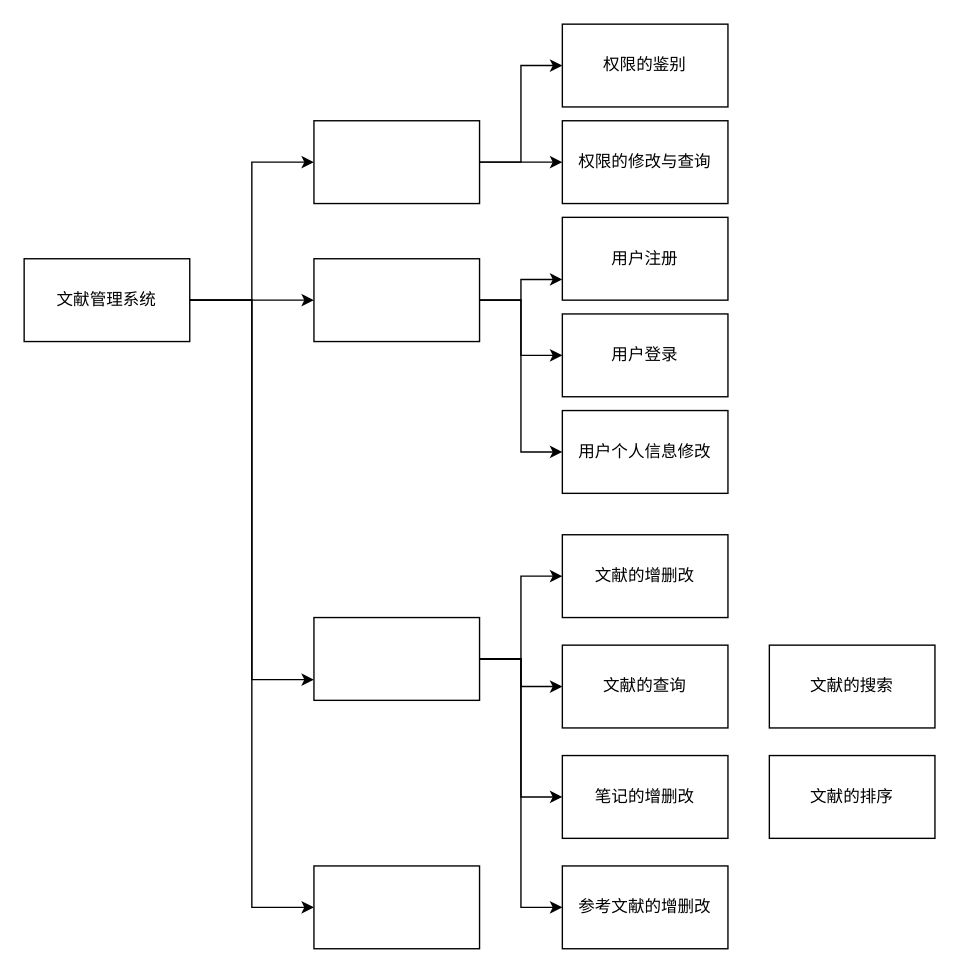
The diagram is 959 pixels wide and 973 high, and some of its shapes have lost their labels. The shapes that lost their labels are listed below. From the top down, each one's centre as x and y in pixels, then its label:
At (396,161): "权限管理".
At (396,299): "用户管理".
At (396,658): "文献管理".
At (396,907): "评论".
